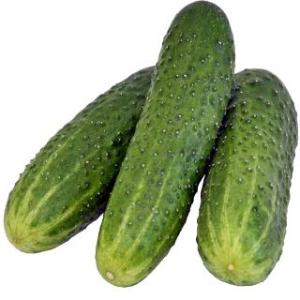cucumber: (94, 0, 236, 288), (0, 66, 166, 255), (192, 68, 300, 286)
